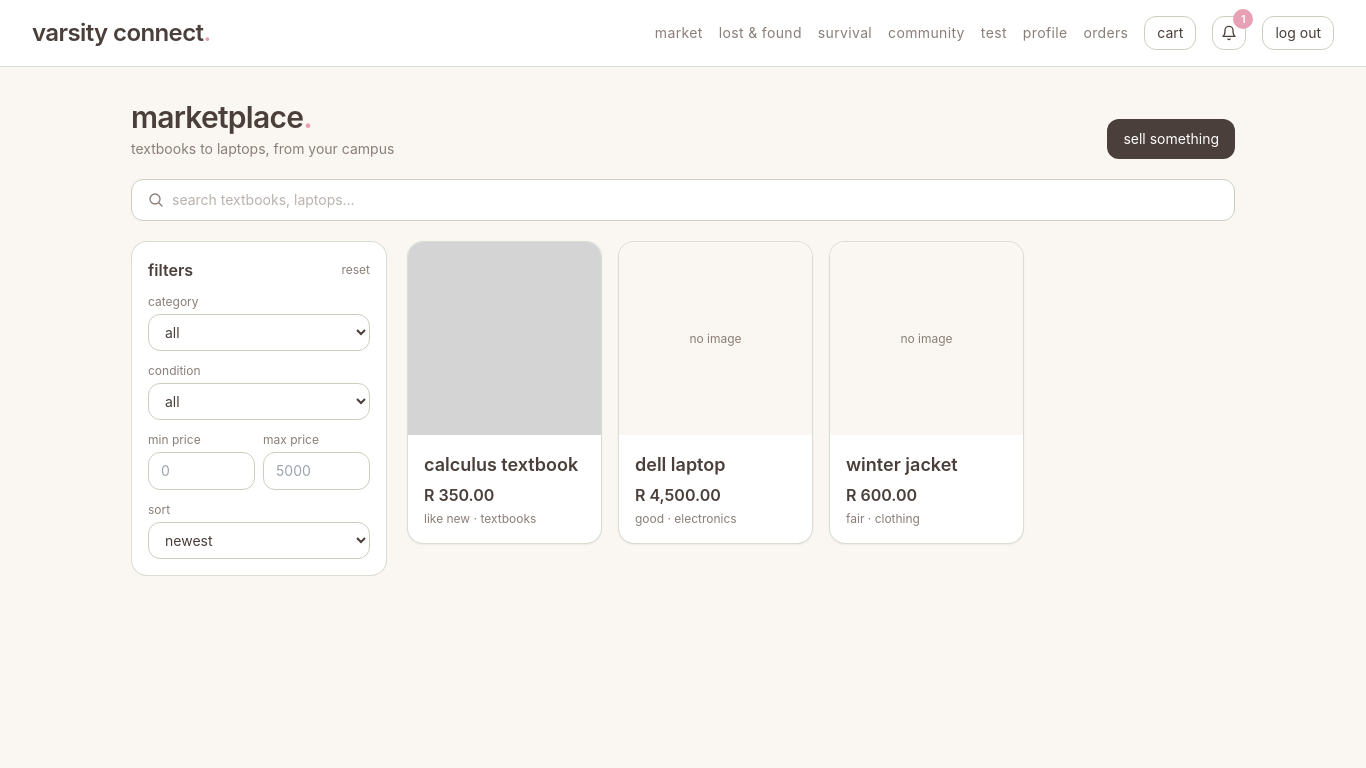
Test: marketplace page › category filter updates the url and narrows the grid
The image size is (1366, 768).
Expected: the text "calculus textbook" is shown, [424,451,585,479]
Select "textbooks" in the dropdown named "category filter" at (259, 332), box [148,314,370,351]
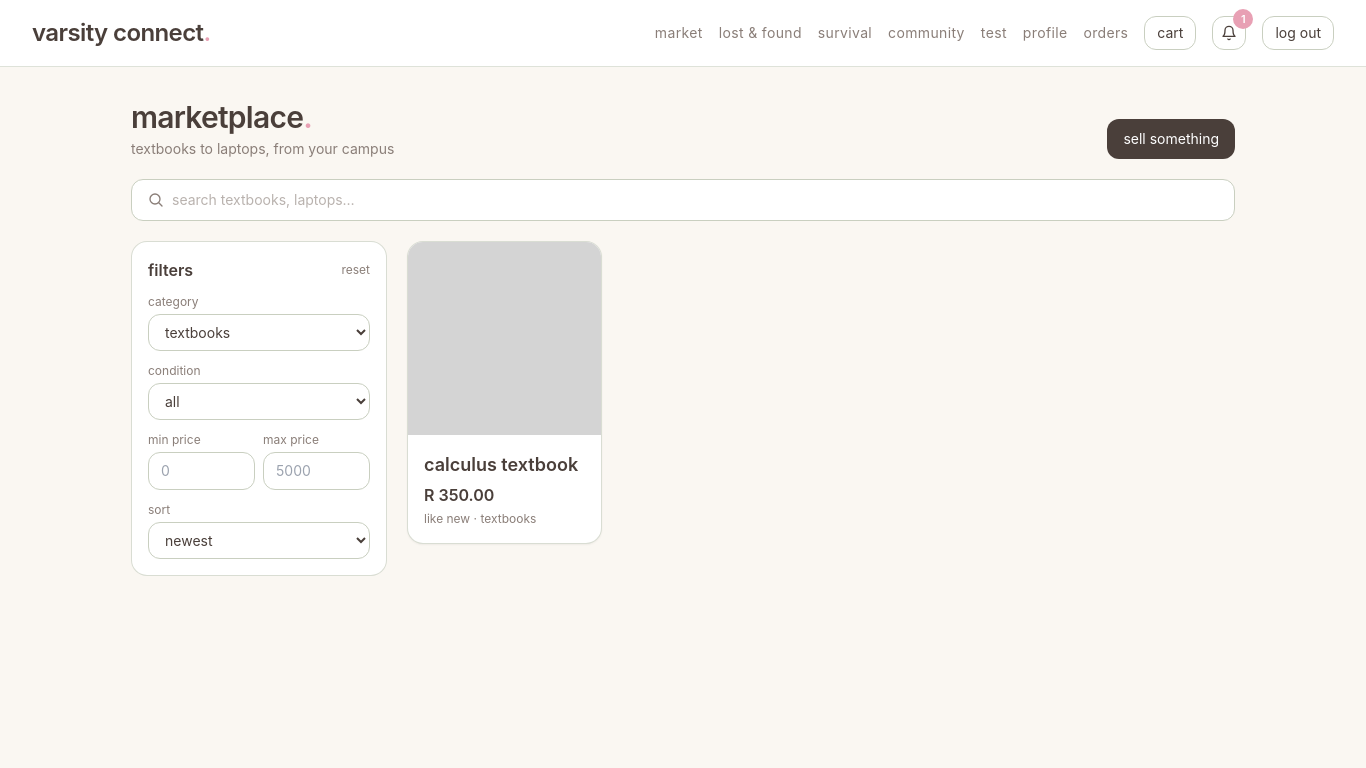
Expected: the text "calculus textbook" is shown, [424,451,585,479]
Result: the link "dell laptop" is gone
